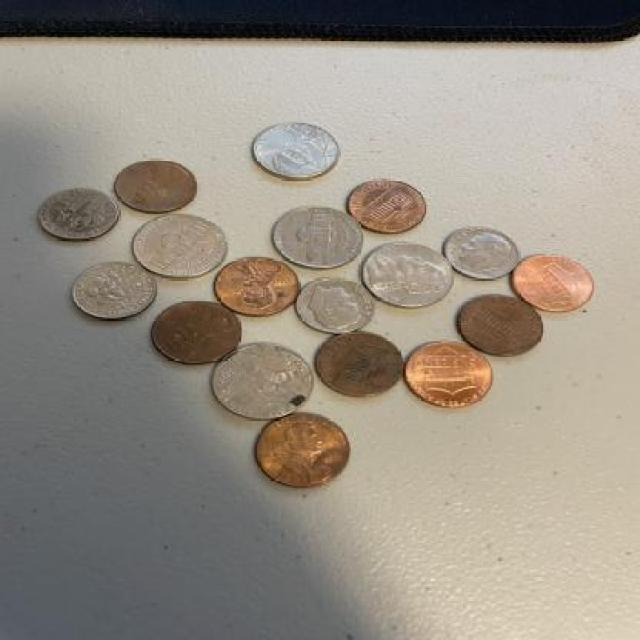Dime: (131, 214, 231, 280), (69, 262, 160, 322), (295, 276, 380, 338), (34, 184, 120, 243), (440, 224, 517, 284)
Nickel: (363, 242, 459, 310), (266, 200, 360, 269), (249, 121, 343, 180)
Penny: (252, 414, 352, 488), (310, 329, 402, 400), (404, 338, 496, 409), (152, 298, 243, 366), (212, 256, 302, 318), (456, 295, 546, 357), (510, 254, 596, 317), (114, 160, 200, 216), (346, 177, 426, 236)
Quarter: (212, 345, 312, 423)
